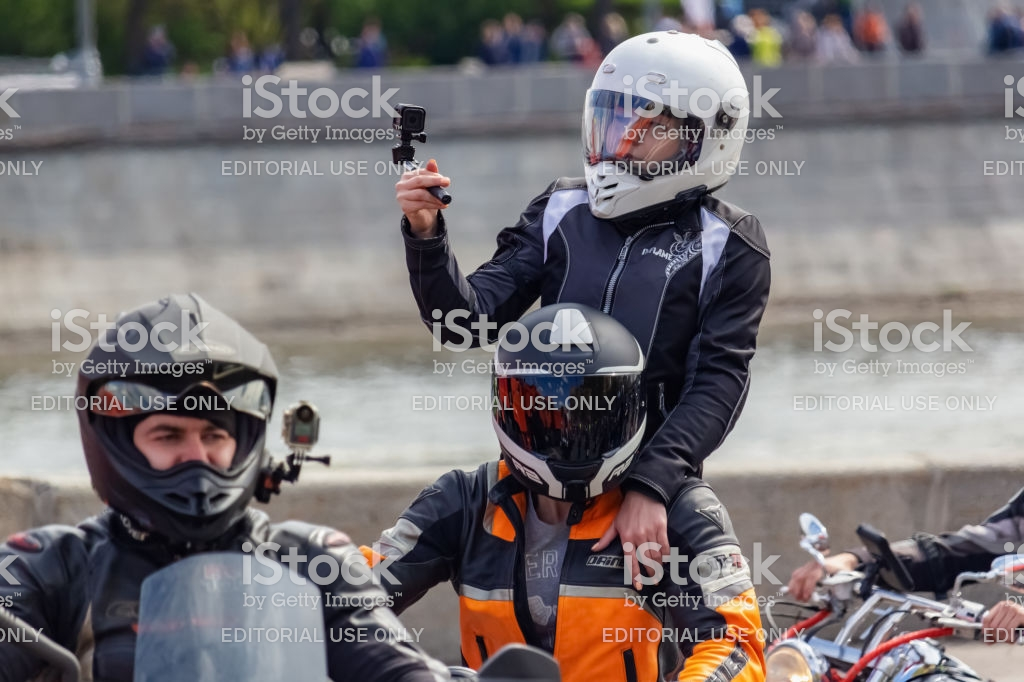helmet: (76, 288, 300, 545), (483, 291, 662, 517), (581, 33, 761, 239)
